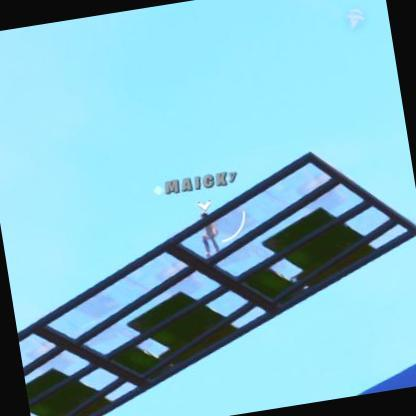person: (202, 210, 222, 254)
